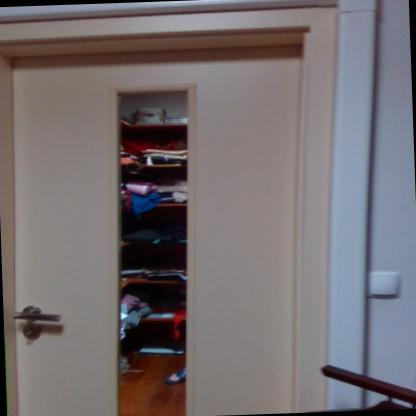closed: (0, 6, 337, 415)
